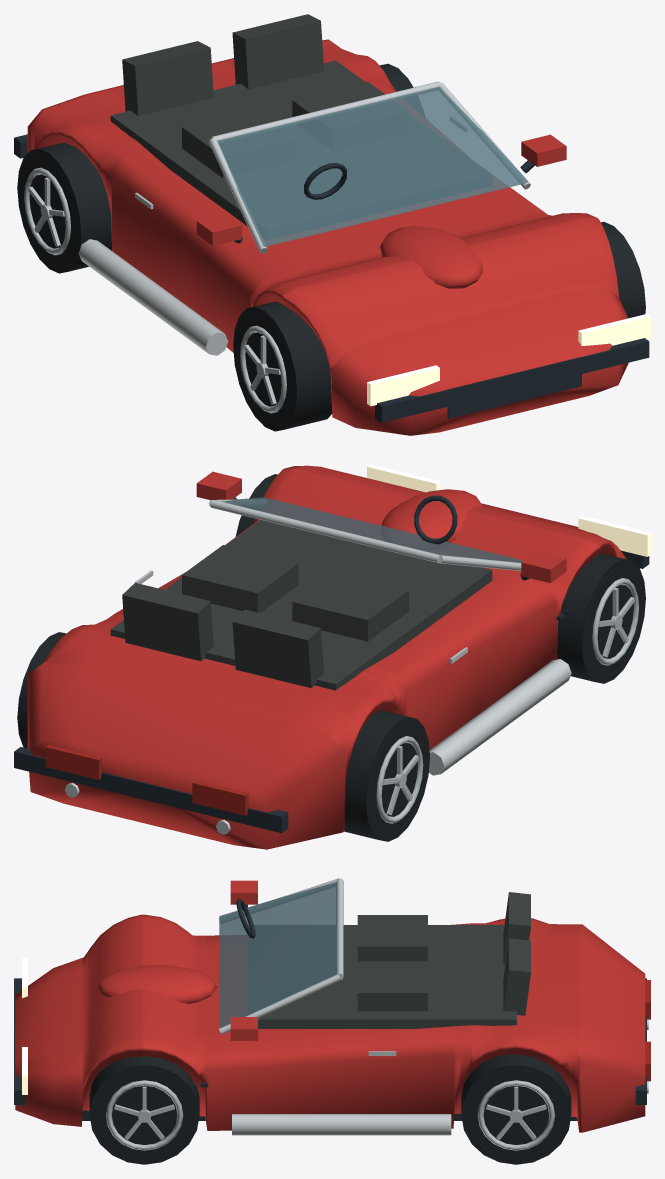
Rendered from viper.glb.
The picture shows the model from 3 angles, top to bottom: view 1: azimuth 30°, elevation 25°; view 2: azimuth 150°, elevation 25°; view 3: azimuth 270°, elevation 25°; orthographic projection. The views are drawn at different scales.
Visible parts, largest first — view 1: exterior-paint, windows, interior, tire-front-left, black-trim, chrome, tire-rear-left, headlights, tire-front-right, rim-rear-left, rim-front-left; view 2: exterior-paint, interior, chrome, tire-rear-left, tire-front-left, black-trim, windows, taillights, headlights, rim-front-left, rim-rear-left, tire-rear-right; view 3: exterior-paint, interior, windows, tire-rear-right, tire-front-right, chrome, rim-front-right, rim-rear-right, black-trim, headlights, taillights.
Boxes of the visible parts, bbox=[...] form: exterior-paint: bbox=[27, 39, 628, 435]; windows: bbox=[217, 87, 527, 246]; interior: bbox=[110, 14, 491, 238]; tire-front-left: bbox=[233, 301, 332, 431]; black-trim: bbox=[14, 134, 649, 422]; chrome: bbox=[78, 81, 530, 355]; tire-rear-left: bbox=[17, 142, 111, 273]; headlights: bbox=[367, 313, 650, 406]; tire-front-right: bbox=[601, 222, 645, 318]; rim-rear-left: bbox=[24, 167, 70, 255]; rim-front-left: bbox=[240, 325, 286, 413]; exterior-paint: bbox=[27, 465, 626, 849]; interior: bbox=[110, 520, 492, 690]; chrome: bbox=[65, 499, 571, 834]; tire-rear-left: bbox=[344, 710, 429, 841]; tire-front-left: bbox=[557, 553, 645, 683]; black-trim: bbox=[14, 495, 649, 833]; windows: bbox=[222, 497, 523, 562]; taillights: bbox=[45, 745, 248, 815]; headlights: bbox=[367, 464, 650, 556]; rim-front-left: bbox=[592, 578, 638, 665]; rim-rear-left: bbox=[376, 736, 423, 823]; tire-rear-right: bbox=[17, 632, 66, 748]; exterior-paint: bbox=[15, 880, 645, 1132]; interior: bbox=[248, 892, 530, 1028]; windows: bbox=[219, 882, 336, 1028]; tire-rear-right: bbox=[461, 1054, 571, 1164]; tire-front-right: bbox=[89, 1056, 199, 1164]; chrome: bbox=[218, 878, 648, 1135]; rim-front-right: bbox=[105, 1080, 183, 1150]; rim-rear-right: bbox=[477, 1080, 555, 1150]; black-trim: bbox=[14, 899, 646, 1120]; headlights: bbox=[22, 958, 27, 1094]; taillights: bbox=[645, 980, 650, 1081].
Size of the model in its own units: 2.11 by 1.07 by 3.7.
